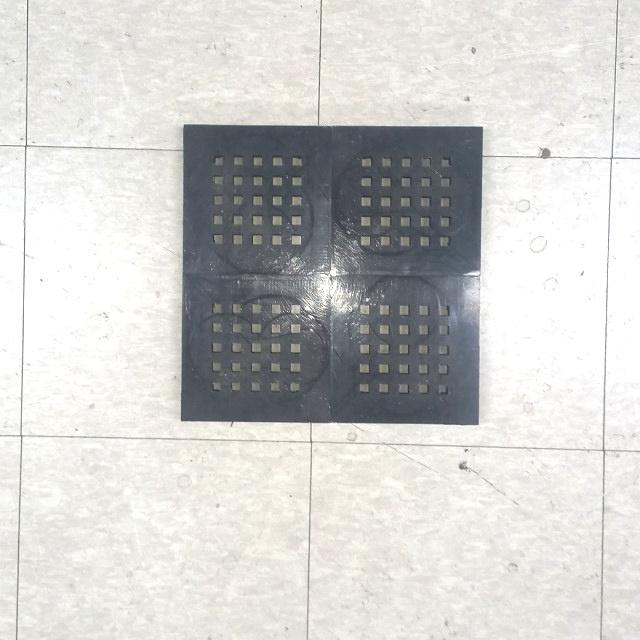pallet: (172, 116, 486, 430)
